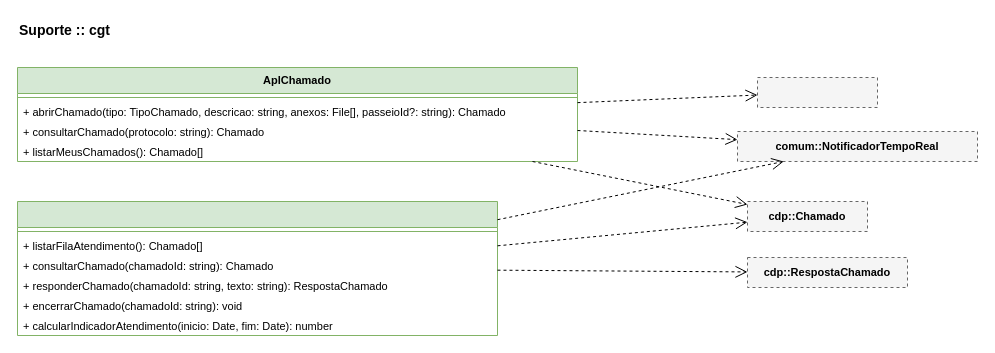
Some shapes in this 995 by 353 pixel diagram are drawn without their labels. The box of each missing label's shape, as (x1, y1, x2, y2) in pixels:
AplAtendimento: (16, 200, 498, 336)
cdp::Anexo: (756, 76, 878, 108)
